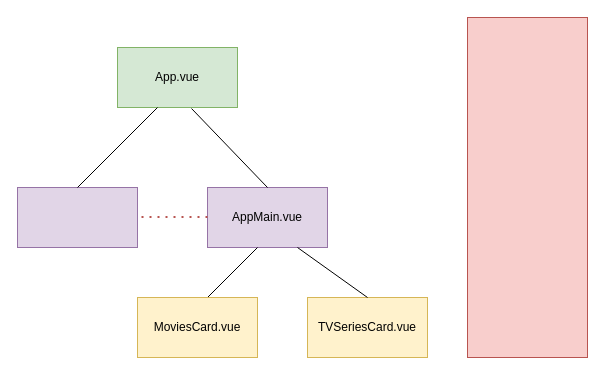
Some shapes in this 605 by 375 pixel diagram are drawn without their labels. The centre of each missing label's shape, as x and y in pixels:
AppHeader.vue: the point at 77,217
GLOBAL STATE: the point at 527,187
